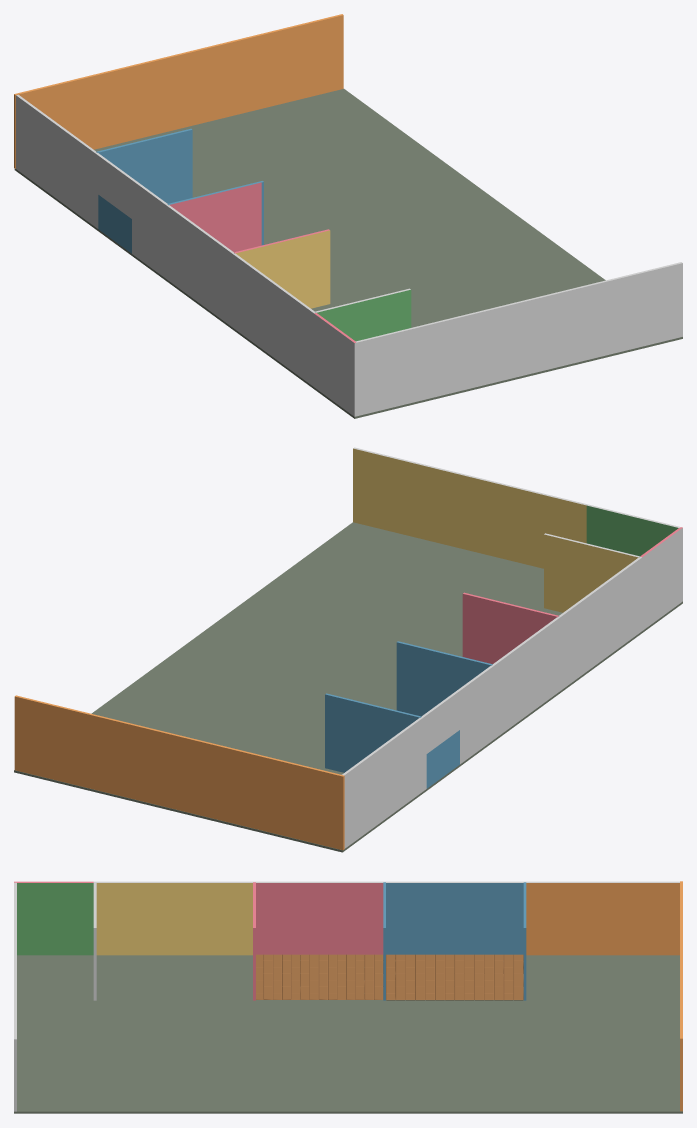
Rendered from housefloor_layout.fbx.
The picture shows the model from 3 angles, top to bottom: view 1: azimuth 30°, elevation 25°; view 2: azimuth 150°, elevation 25°; view 3: azimuth 270°, elevation 25°; orthographic projection.
Visible parts, largest first — view 1: Cube.028, Cube.007, Cube.041, Cube.001, Cube.032, Cube.033, Cube.008, Cube.038; view 2: Cube.028, Cube.007, Cube.001, Cube.041, Cube.033, Cube.038, Cube.008, Cube.032; view 3: Cube.028, Cube.007, Plane, Plane.001, Cube.001, Cube.041, Cube.038, Cube.033.
Boxes of the visible parts, x1,y1,x2,y2 form: Cube.028: (14,89,682,418); Cube.007: (16,94,356,416); Cube.041: (355,262,682,416); Cube.001: (14,14,343,168); Cube.032: (234,229,330,308); Cube.033: (96,128,192,203); Cube.008: (167,181,263,252); Cube.038: (315,288,411,341); Cube.028: (14,522,682,852); Cube.007: (342,527,682,848); Cube.001: (14,695,344,850); Cube.041: (353,447,680,568); Cube.033: (325,693,421,772); Cube.038: (544,533,640,612); Cube.008: (396,641,492,716); Cube.032: (462,592,558,664); Cube.028: (14,955,682,1113); Cube.007: (14,881,679,955); Plane: (386,954,523,1000); Plane.001: (256,954,383,999); Cube.001: (680,881,682,1111); Cube.041: (14,882,16,1111); Cube.038: (93,882,96,1000); Cube.033: (523,882,526,1000).
Bounding box in the file's own units: 2888 × 638 × 5173.
